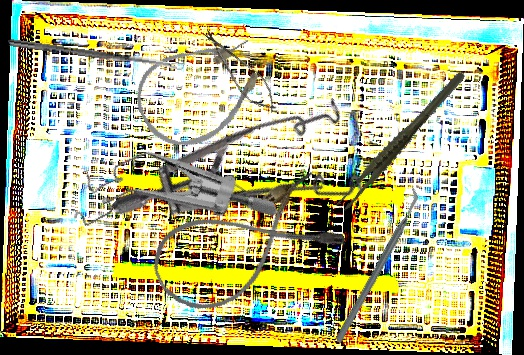Cannula: (141, 166, 350, 326), (122, 18, 281, 163)
Chopper: (291, 185, 463, 344)
Micro Scissor: (194, 23, 285, 119)
Speculum: (109, 47, 392, 323), (59, 108, 280, 291)
Surgical Spoon: (7, 38, 184, 72)
Tissue Forceps: (315, 69, 488, 214)
